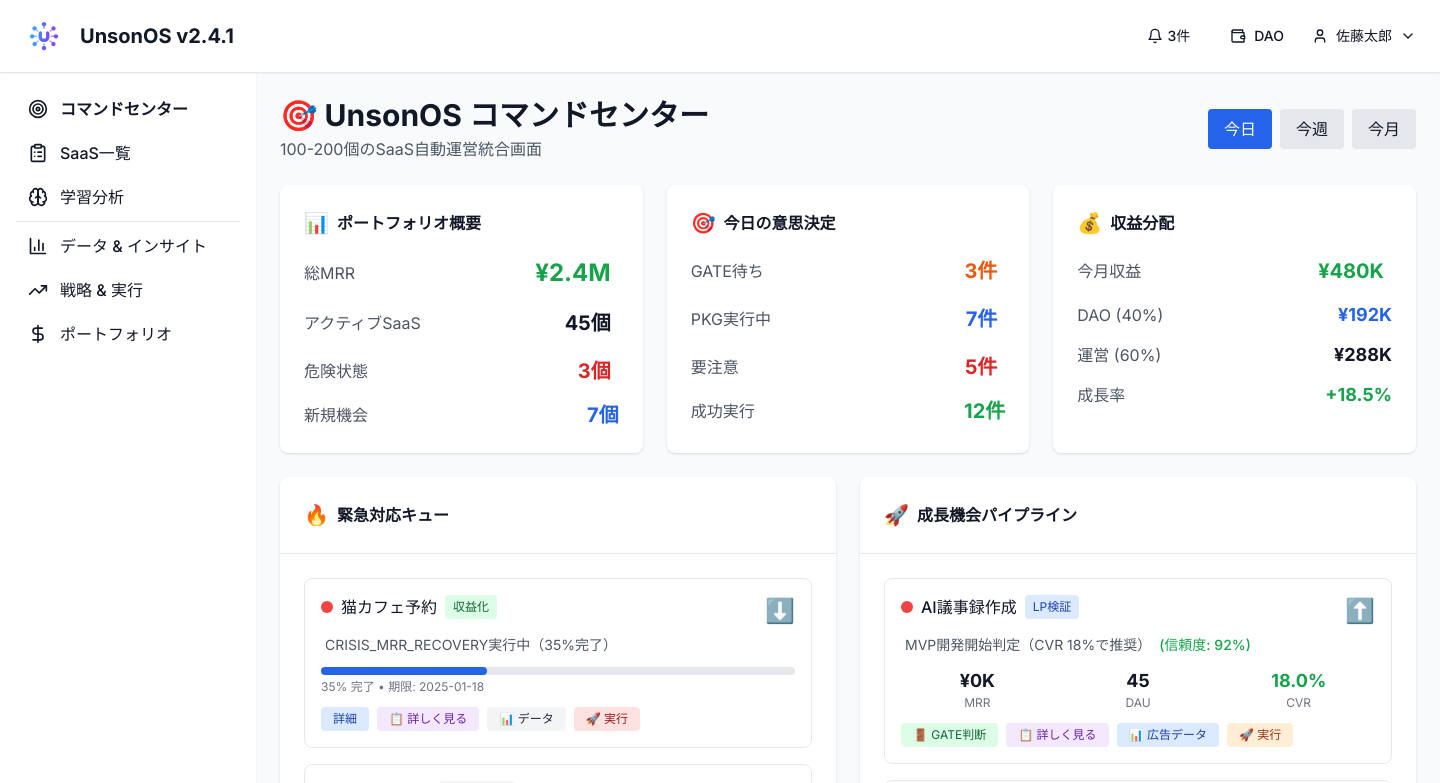
Dashboard › タブ切り替え › データビュータブに切り替えできる
Click the button "データ & インサイト".
click(128, 246)  # box left=16, top=226, right=240, bottom=266
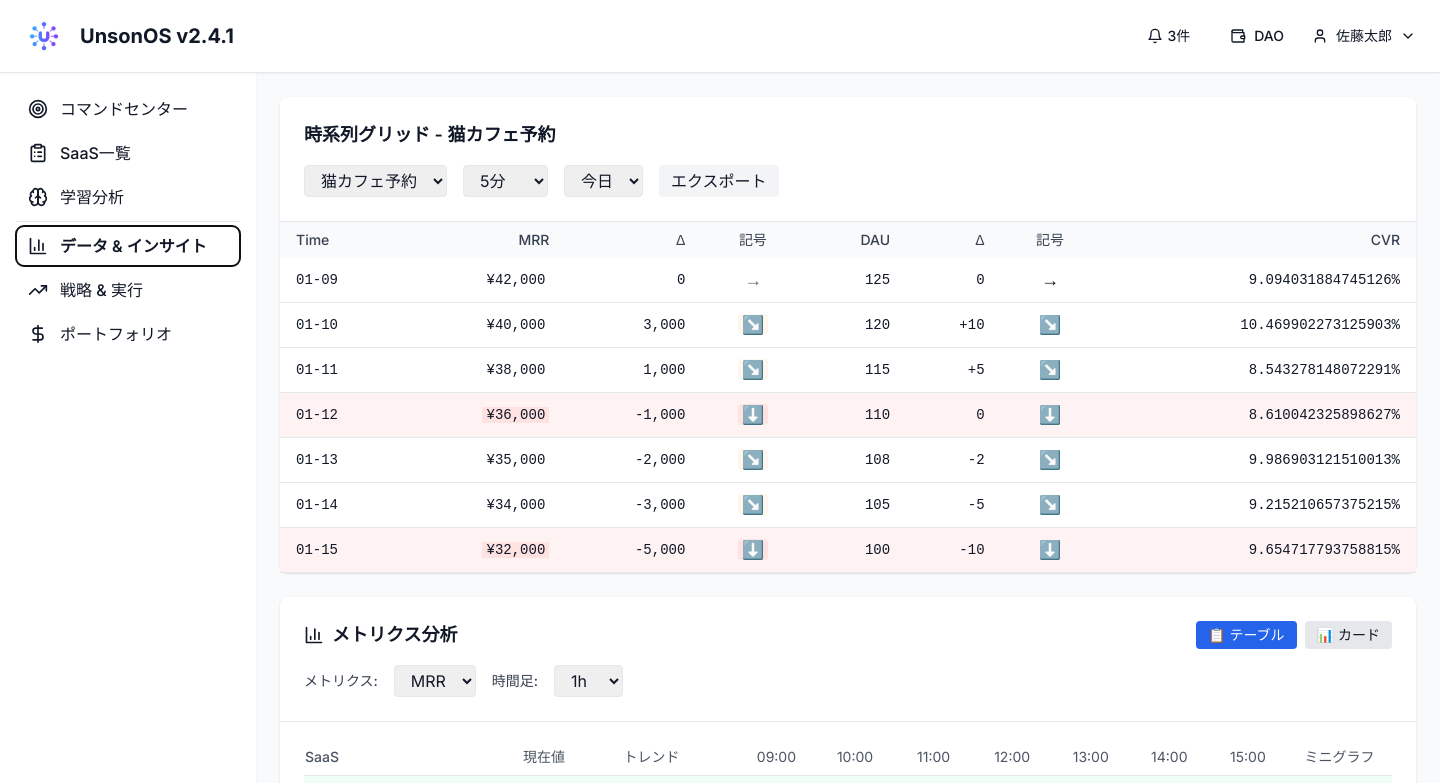
expect the dropdown named "SaaS選択" is shown: met, box left=304, top=165, right=447, bottom=197
expect the button "エクスポート" is shown: met, box left=659, top=165, right=778, bottom=197
